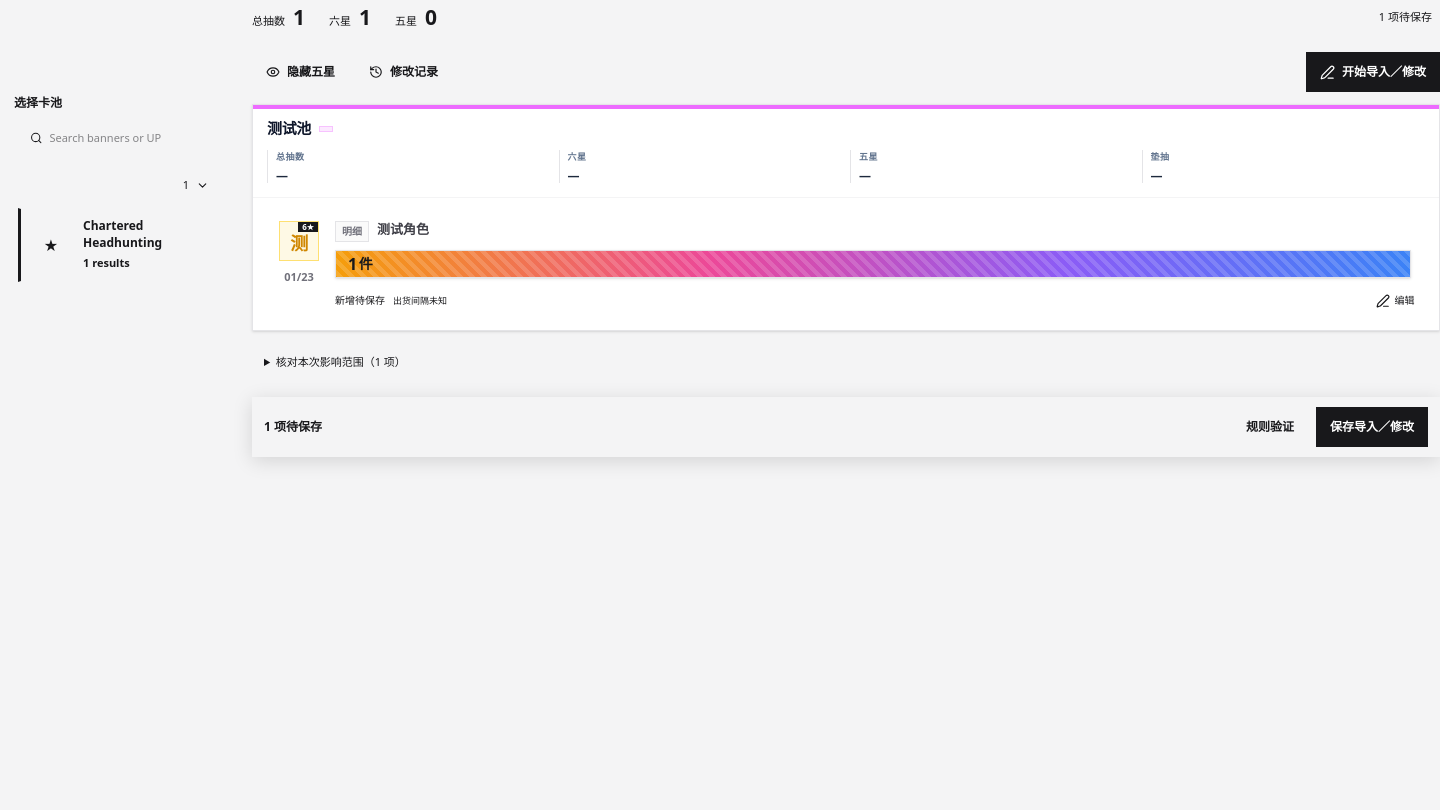
Test: workbench account workspace › excludes already skipped drafts from validation and retains them after saving active entries
The image size is (1440, 810).
Check: the button "开始导入／修改" is enabled, box [1306,52,1439,92]
Click the button "规则验证": coordinates (1270, 427) [1232,407,1308,447]
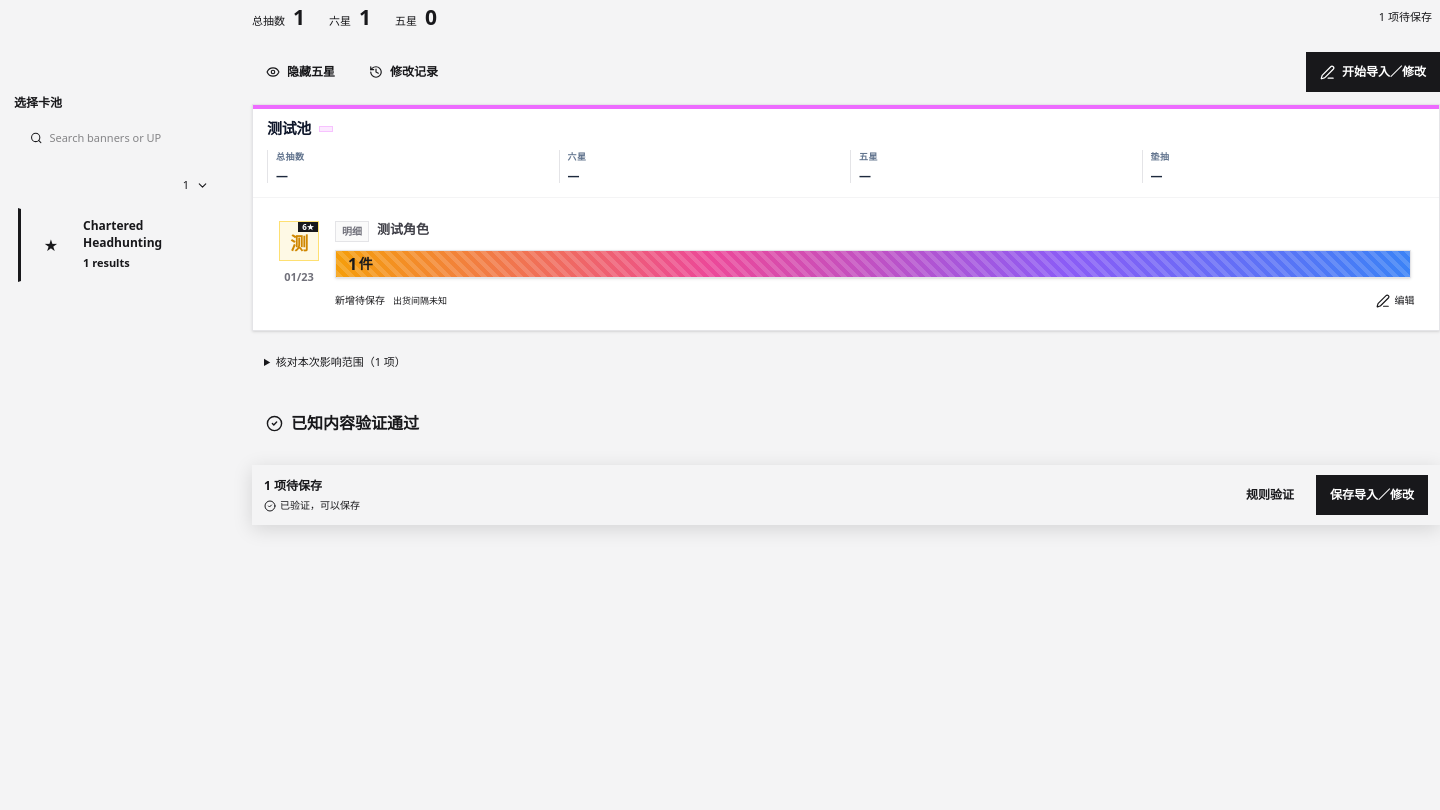
Check: the element named "规则验证结果" is shown, box [266,412,419,434]
Click the button "保存导入／修改": coordinates (1372, 495) [1316,475,1428,515]
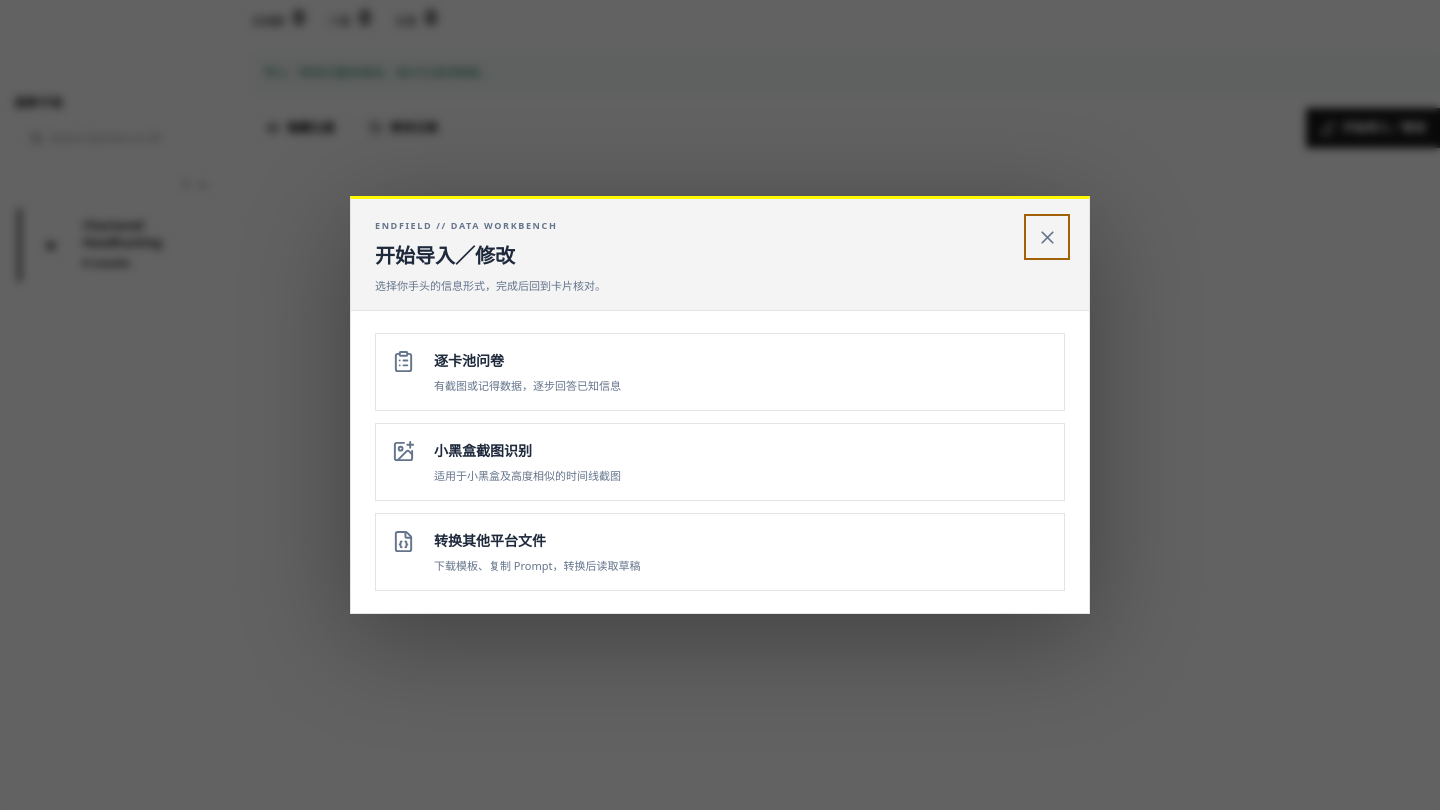
Check: the text "导入／修改已整体保存，统计已请求刷新。" is shown, box [252,52,1439,94]
